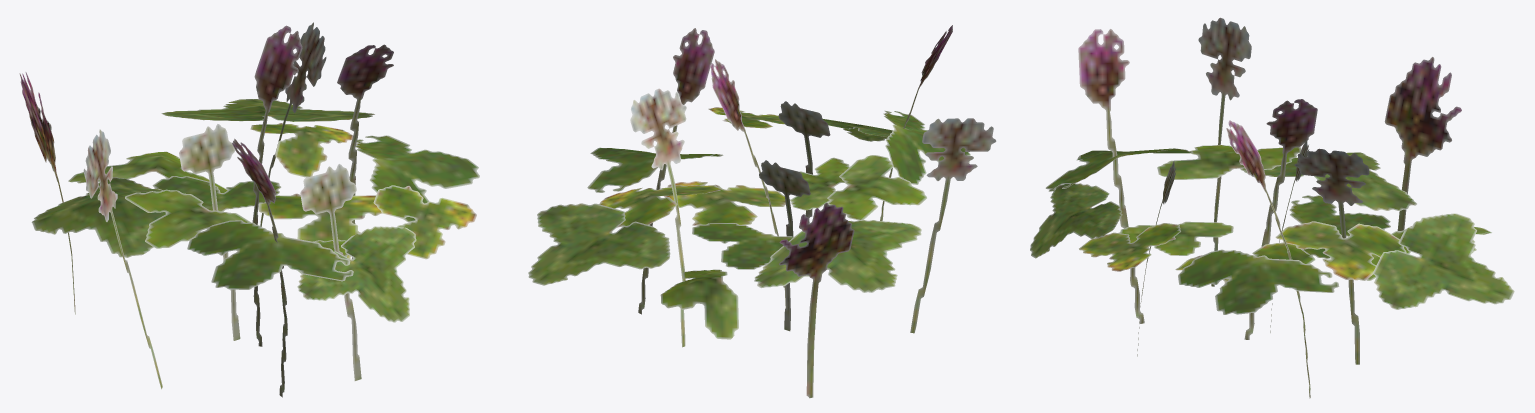
File: flower_03_05.fbx
3 renders of one model, left to right at view 1: azimuth 30°, elevation 25°; view 2: azimuth 150°, elevation 25°; view 3: azimuth 270°, elevation 25°, orthographic. The views are drawn at different scales.
Visible parts, largest first — view 1: flower_03_05; view 2: flower_03_05; view 3: flower_03_05.
Part boxes in pixels (x1,y1,x2,y2): flower_03_05: [19, 22, 479, 397]; flower_03_05: [528, 25, 996, 398]; flower_03_05: [1030, 17, 1514, 398].
Bounding box in the file's own units: 10.96 × 7.29 × 11.97.
